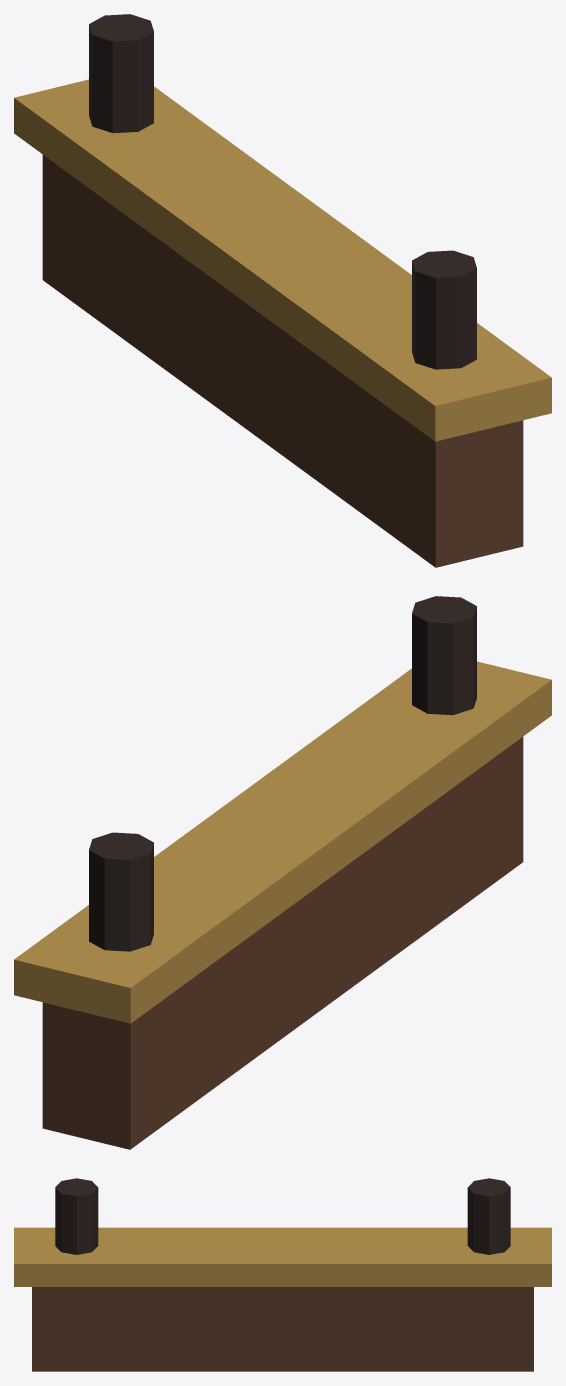
The model's file is PirateCove_TideDivider_Simple.glb.
3 views of the same model, one above another, from view 1: azimuth 30°, elevation 25°; view 2: azimuth 150°, elevation 25°; view 3: azimuth 270°, elevation 25° (orthographic). The views are drawn at different scales.
Visible parts, largest first — view 1: PirateCove_TideDivider_Simple; view 2: PirateCove_TideDivider_Simple; view 3: PirateCove_TideDivider_Simple.
Boxes of the visible parts, x1,y1,x2,y2 form: PirateCove_TideDivider_Simple: [14, 14, 551, 567]; PirateCove_TideDivider_Simple: [14, 596, 551, 1149]; PirateCove_TideDivider_Simple: [14, 1178, 551, 1371].
Bounding box in the file's own units: 0.48 × 1.05 × 3.
